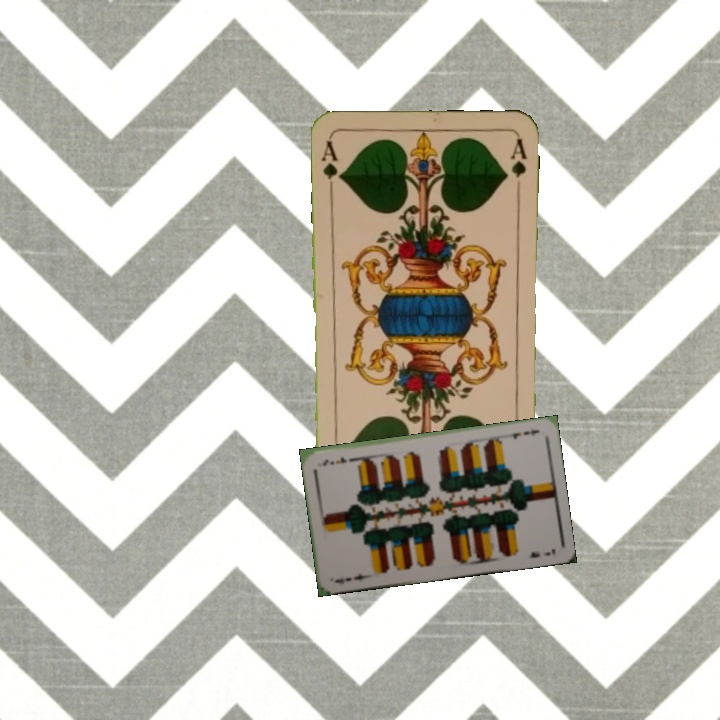E7: (331, 570, 372, 587), (502, 426, 542, 441)
GA: (318, 137, 345, 195)
